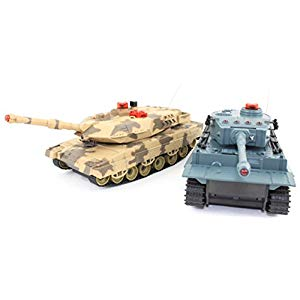Battle Tank: (24, 102, 201, 181), (189, 107, 294, 213)
